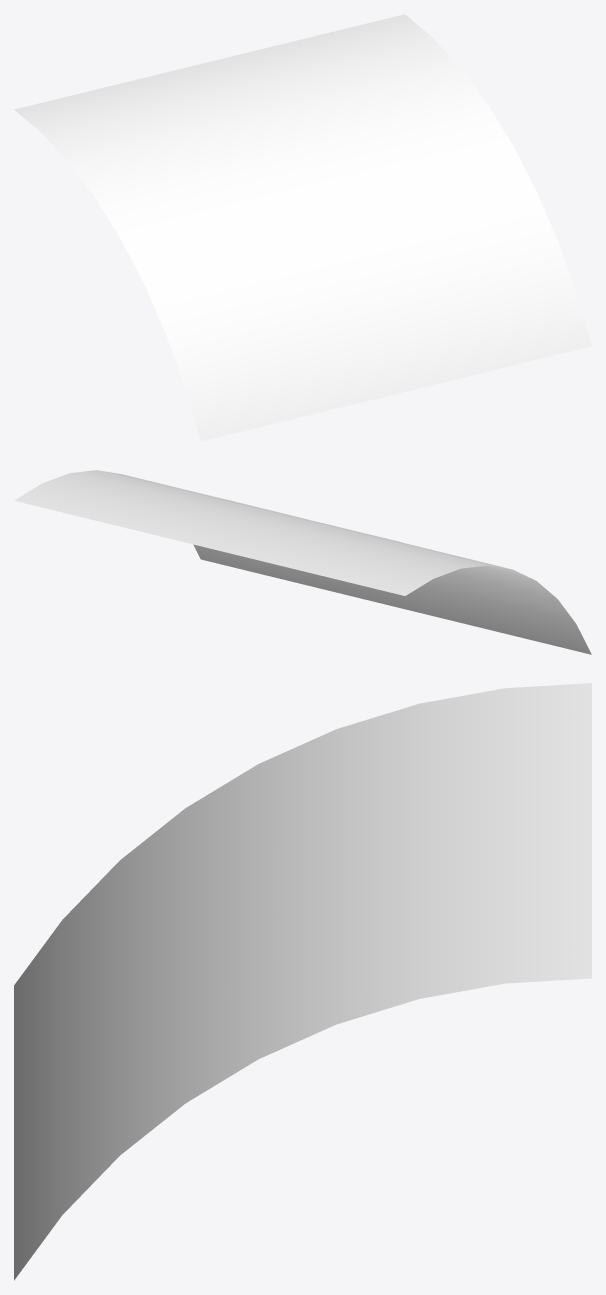
File: grd_F_O_0.dae
3 views of the same model, one above another, from view 1: azimuth 30°, elevation 25°; view 2: azimuth 150°, elevation 25°; view 3: azimuth 270°, elevation 25° (orthographic). The views are drawn at different scales.
Visible parts, largest first — view 1: grd_F_O_0; view 2: grd_F_O_0; view 3: grd_F_O_0.
Part boxes in pixels (x1,y1,x2,y2): grd_F_O_0: [14, 14, 591, 441]; grd_F_O_0: [14, 470, 591, 654]; grd_F_O_0: [14, 683, 591, 1280].
Size of the model in its own units: 512 by 244 by 423.
2 materials, 1 textured.
